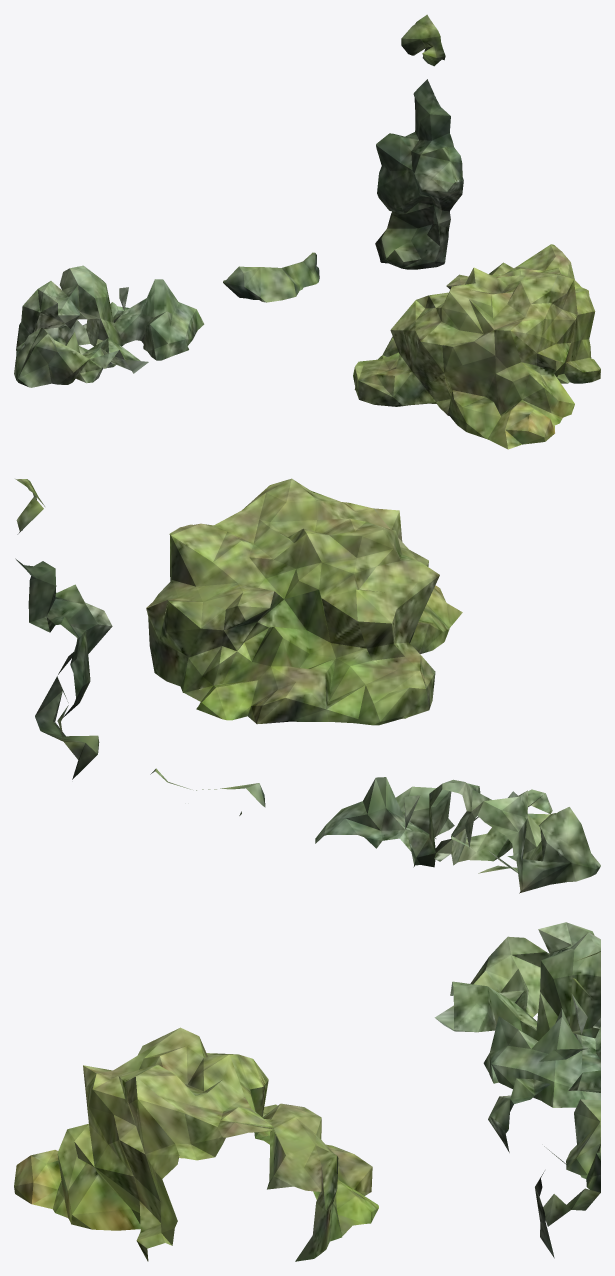
The picture shows the model from 3 angles, top to bottom: view 1: azimuth 30°, elevation 25°; view 2: azimuth 150°, elevation 25°; view 3: azimuth 270°, elevation 25°; orthographic projection. The views are drawn at different scales.
Size of the model in its own units: 22.02 by 11.32 by 19.41.
Materials: 2 (2 with a texture image).
